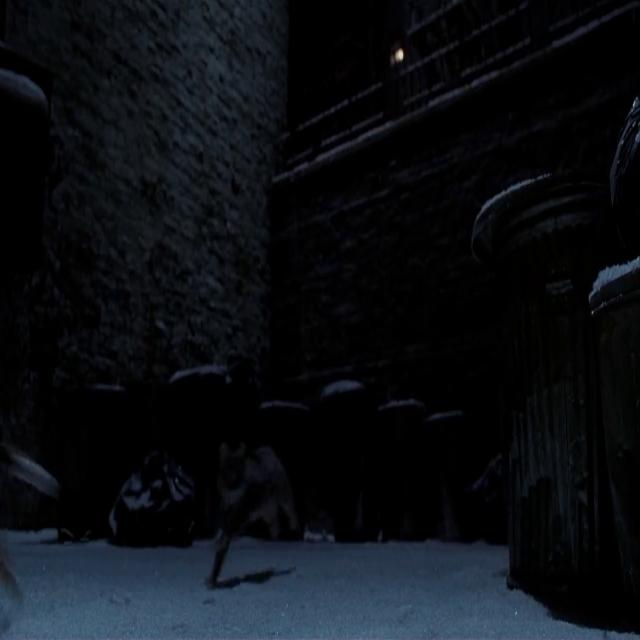Cat: (211, 430, 310, 578)
